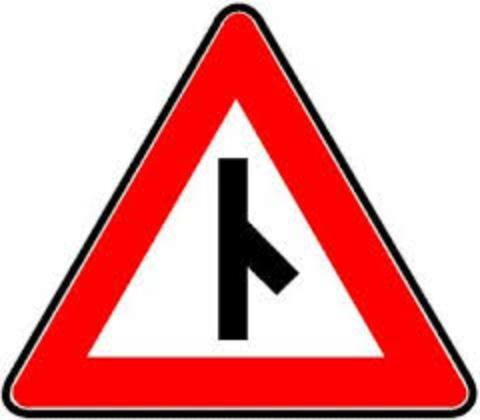fork_road: (3, 0, 476, 419)
